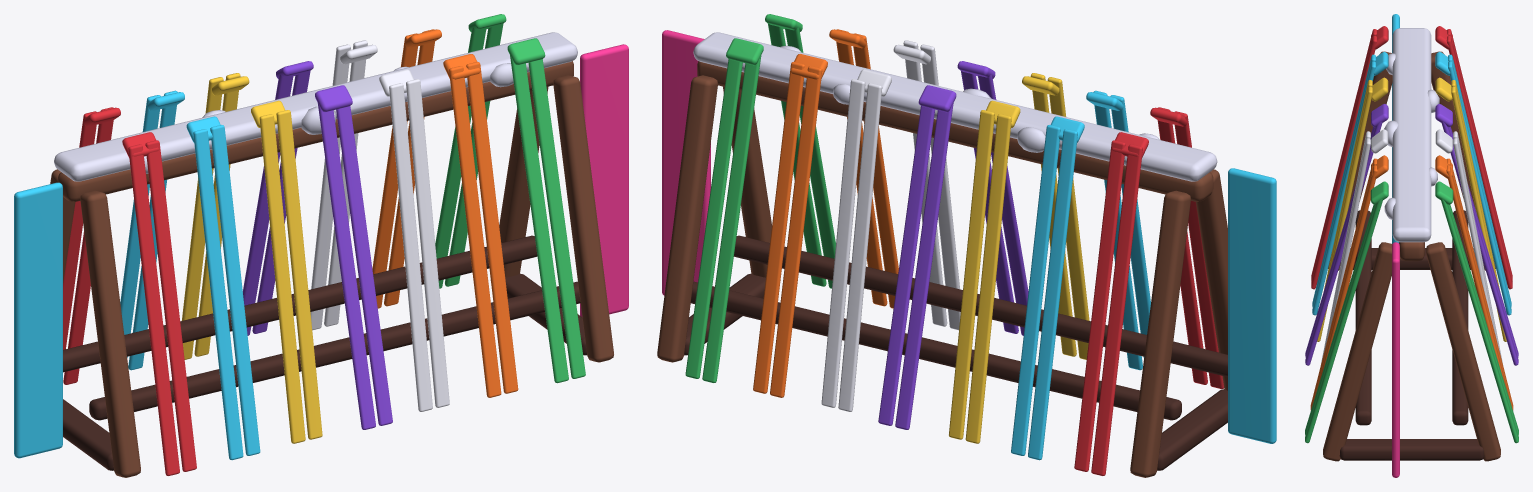
The model's file is frost_ski_rack.glb.
3 renders of one model, left to right at view 1: azimuth 30°, elevation 25°; view 2: azimuth 150°, elevation 25°; view 3: azimuth 270°, elevation 25°, orthographic. The views are drawn at different scales.
Parts seen in each view (by area): view 1: SkiRack; view 2: SkiRack; view 3: SkiRack.
Part boxes in pixels (box(x1,y1,x2,y2)): SkiRack: box(14, 14, 628, 477); SkiRack: box(657, 14, 1276, 477); SkiRack: box(1305, 14, 1518, 477).
Bounding box in the file's own units: 3.63 × 1.74 × 1.33.
